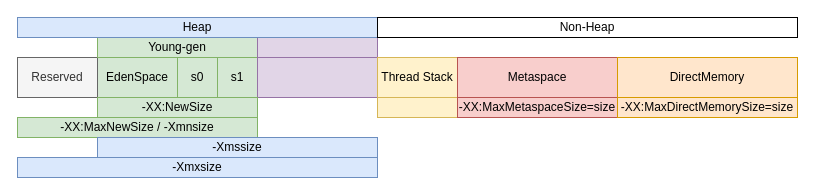
Some shapes in this 815 by 195 pixel diagram are drawn without their labels. The shapes that lost their labels are listed below. From the top down, each one's box as (x1, y1, x2, y2) in pixels, then its label:
(256, 36, 378, 58): Old-gen
(256, 56, 378, 98): Old
(376, 96, 458, 118): -Xsssize
